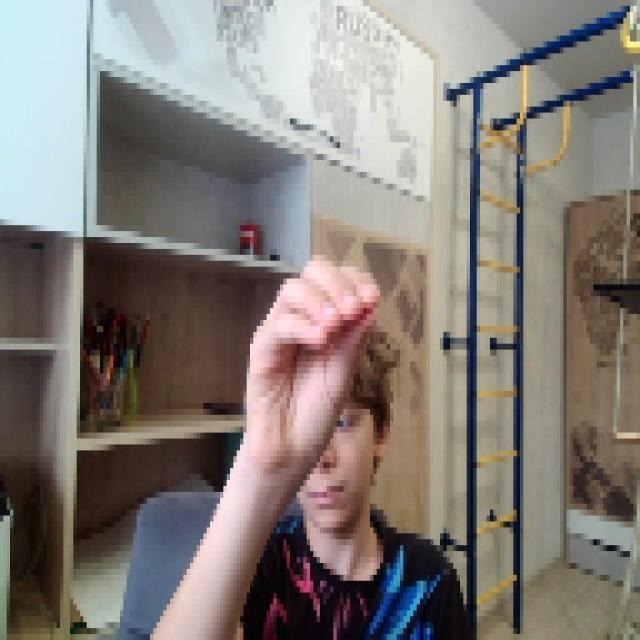left_click: (240, 243, 380, 468)
